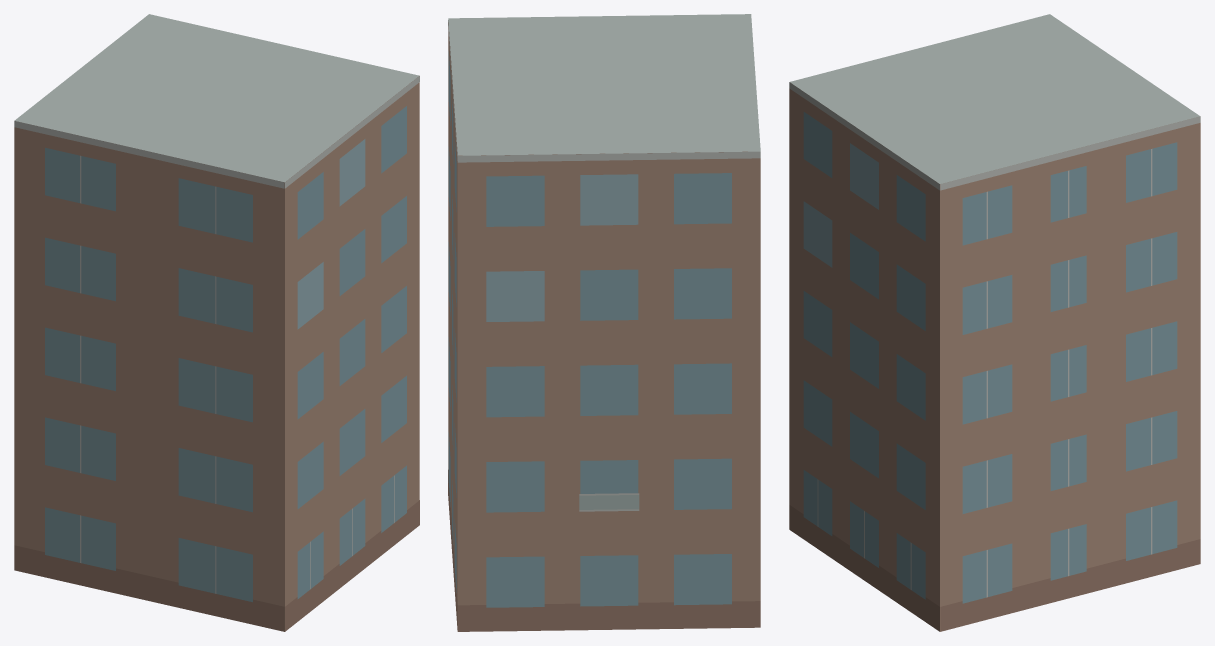
The model's file is survey-upis-32936460.glb.
3 views of the same model, side by side, from view 1: azimuth 30°, elevation 25°; view 2: azimuth 150°, elevation 25°; view 3: azimuth 270°, elevation 25° (orthographic). The views are drawn at different scales.
Visible parts, largest first — view 1: survey-upis-32936460.tmp; view 2: survey-upis-32936460.tmp; view 3: survey-upis-32936460.tmp.
Part boxes in pixels (x1=…): survey-upis-32936460.tmp: x1=14, y1=14, x2=419, y2=631; survey-upis-32936460.tmp: x1=448, y1=14, x2=760, y2=631; survey-upis-32936460.tmp: x1=789, y1=14, x2=1200, y2=631.
Bounding box in the file's own units: 13.87 × 17 × 14.16.
